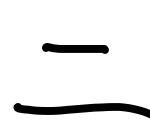eqv: (11, 40, 150, 118)
